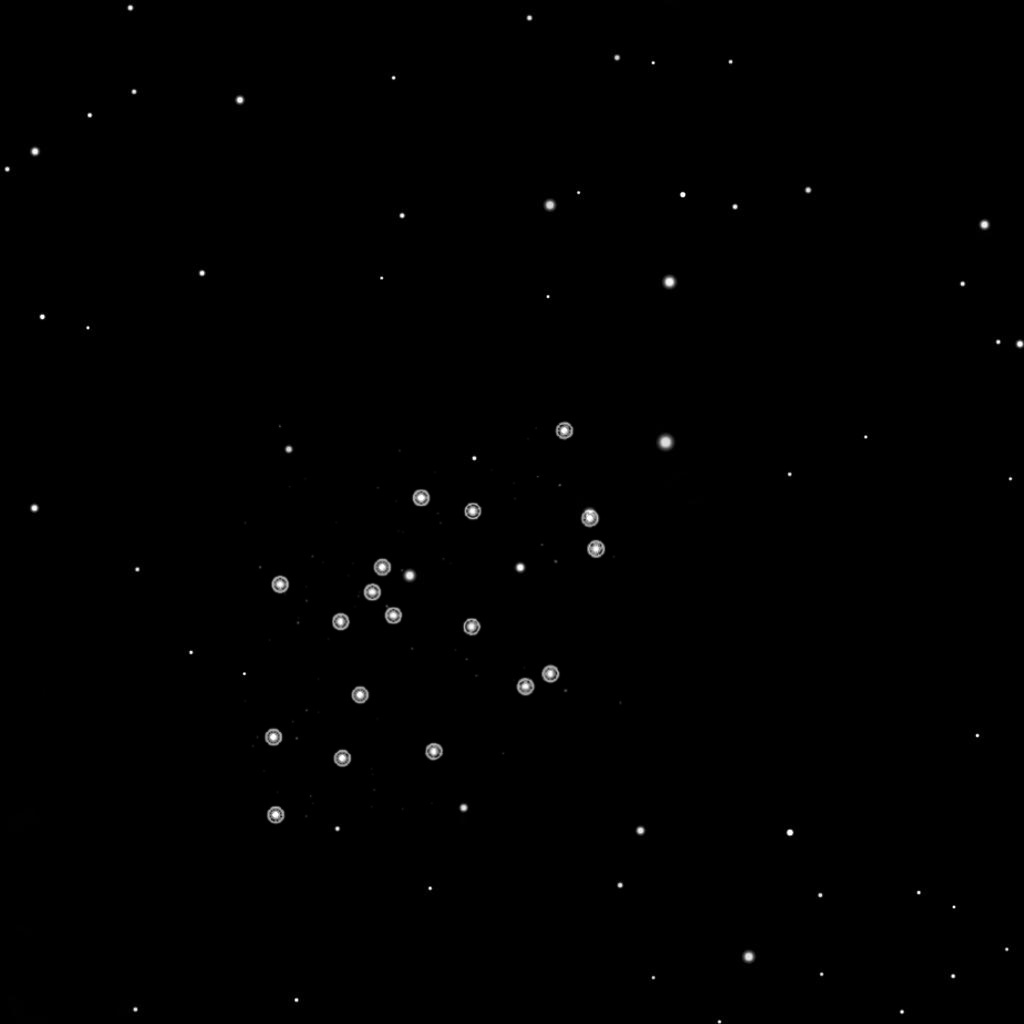canis_major: (329, 487, 485, 633)
